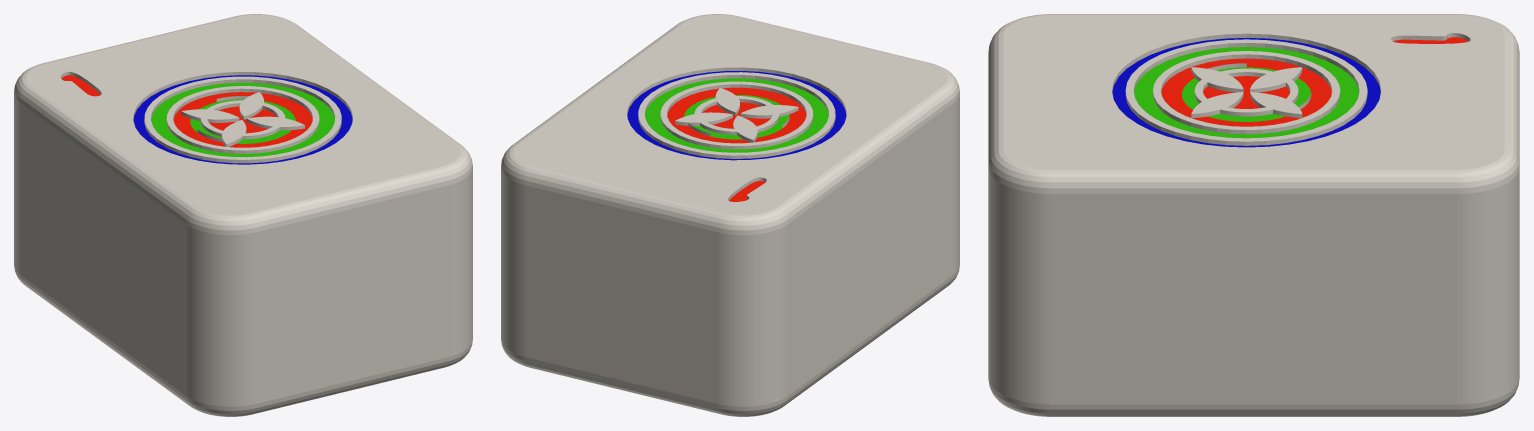
Rendered from mj-tile-stamp-pair-d-1-baseline-inlay.glb.
3 renders of one model, left to right at view 1: azimuth 30°, elevation 25°; view 2: azimuth 150°, elevation 25°; view 3: azimuth 270°, elevation 25°, orthographic. The views are drawn at different scales.
Visible parts, largest first — view 1: tileStampPairMesh, tileFaceInlay-002-st10-0, tileFaceInlay-003-st7-1, tileFaceInlay-001-st8-0, tileFaceInlay-004-st10-1, tileFaceInlay-005-st7-2; view 2: tileStampPairMesh, tileFaceInlay-002-st10-0, tileFaceInlay-003-st7-1, tileFaceInlay-001-st8-0, tileFaceInlay-004-st10-1, tileFaceInlay-005-st7-2; view 3: tileStampPairMesh, tileFaceInlay-002-st10-0, tileFaceInlay-003-st7-1, tileFaceInlay-001-st8-0, tileFaceInlay-004-st10-1, tileFaceInlay-005-st7-2.
Boxes of the visible parts, x1,y1,x2,y2 form: tileStampPairMesh: [14, 14, 472, 416]; tileFaceInlay-002-st10-0: [151, 82, 334, 157]; tileFaceInlay-003-st7-1: [173, 92, 312, 147]; tileFaceInlay-001-st8-0: [133, 75, 352, 164]; tileFaceInlay-004-st10-1: [190, 99, 295, 143]; tileFaceInlay-005-st7-2: [209, 106, 276, 133]; tileStampPairMesh: [501, 14, 959, 416]; tileFaceInlay-002-st10-0: [645, 78, 828, 152]; tileFaceInlay-003-st7-1: [667, 87, 806, 143]; tileFaceInlay-001-st8-0: [627, 71, 846, 160]; tileFaceInlay-004-st10-1: [684, 95, 789, 139]; tileFaceInlay-005-st7-2: [703, 102, 770, 128]; tileStampPairMesh: [988, 14, 1519, 416]; tileFaceInlay-002-st10-0: [1134, 47, 1359, 138]; tileFaceInlay-003-st7-1: [1161, 58, 1331, 126]; tileFaceInlay-001-st8-0: [1112, 38, 1380, 147]; tileFaceInlay-004-st10-1: [1182, 67, 1310, 121]; tileFaceInlay-005-st7-2: [1203, 76, 1289, 108].
Bounding box in the file's own units: 0.854 × 0.584 × 1.14.
